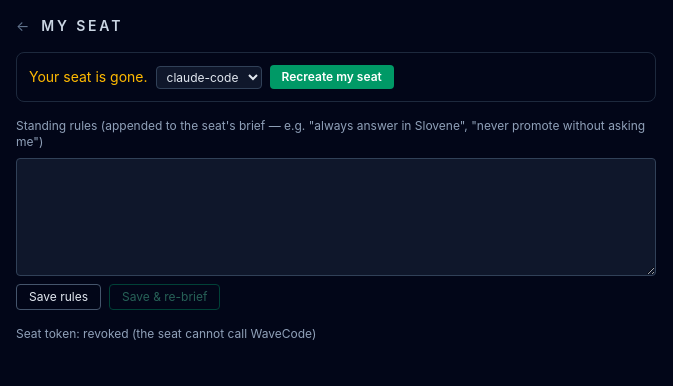
Test: Settings → My seat (spec §5d) › a seat created without MCP registration says so
expect the heading "My seat" is shown: met, box top-left (41, 16), bottom-right (123, 36)
What coordinates should you click on to do the following:
click the button "Recreate my seat"
I would click on:
 (332, 77)
Its box is top-left (270, 65), bottom-right (394, 89).
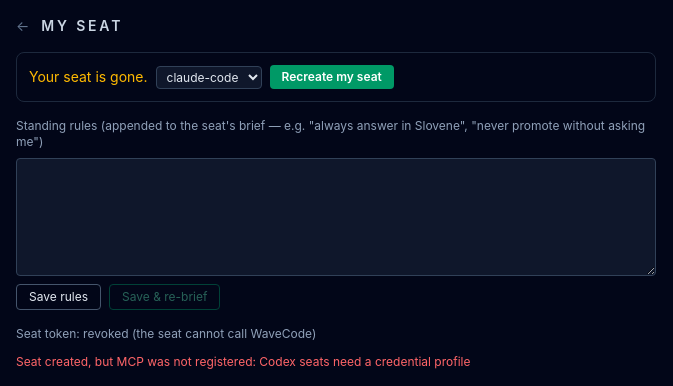
expect the message shows "MCP was not registered: Codex seats need a credential profile": met, box top-left (16, 354), bottom-right (470, 369)
